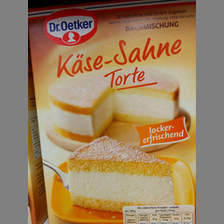cake: (30, 4, 194, 223)
